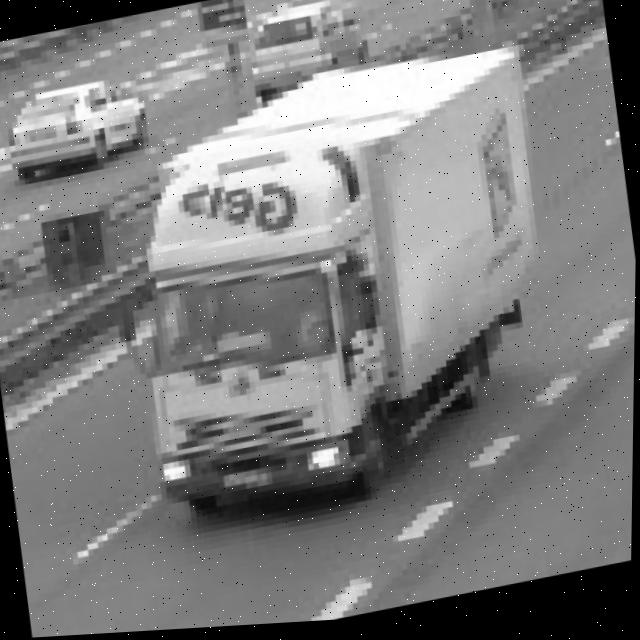truck: (88, 124, 439, 565)
